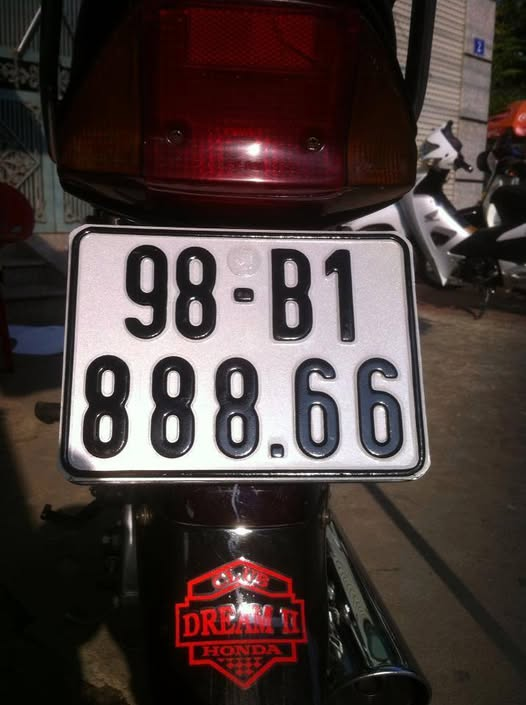bien_so: (50, 217, 438, 487)
